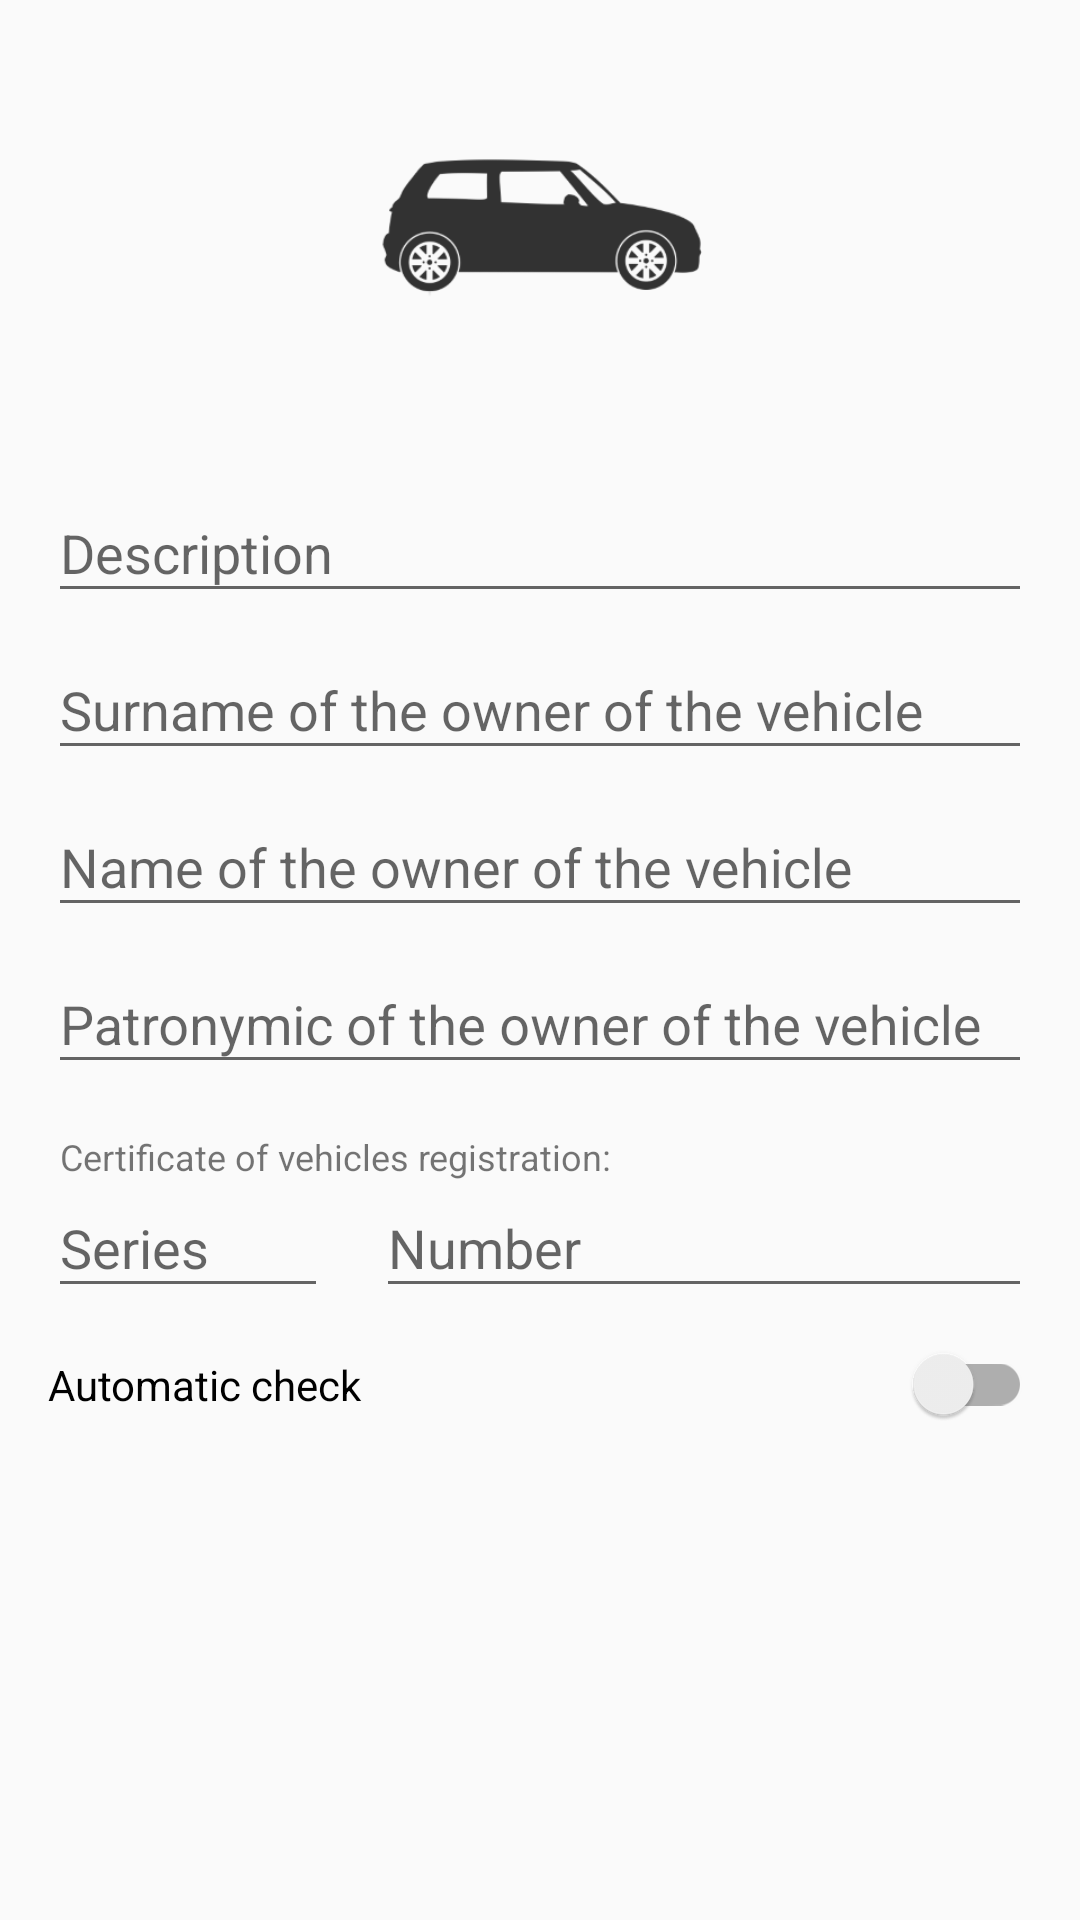

Icon click points for this 1080*1920 phone screenshot, format [x,y]:
empty car: [542,225]
